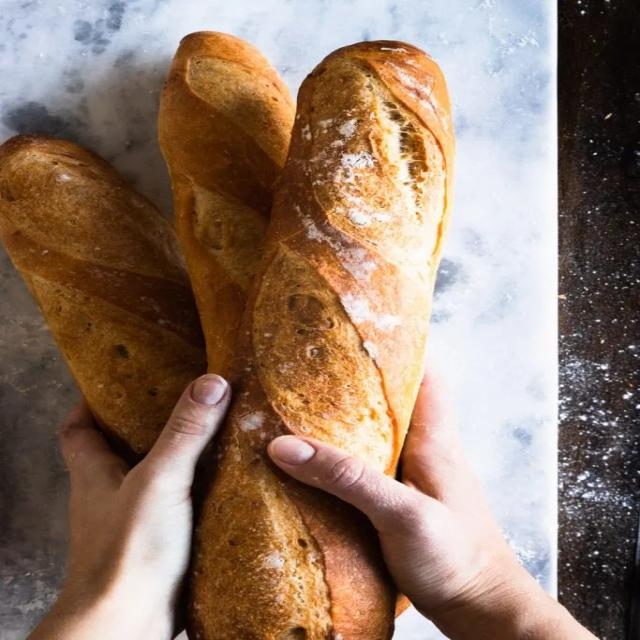Baguette: (193, 41, 454, 639), (0, 135, 209, 458), (158, 32, 294, 376)
